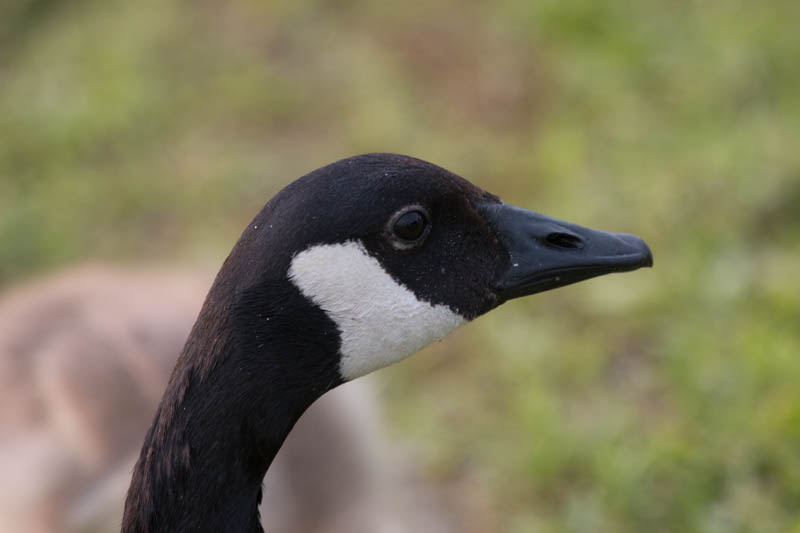goose-head: (214, 153, 654, 386)
